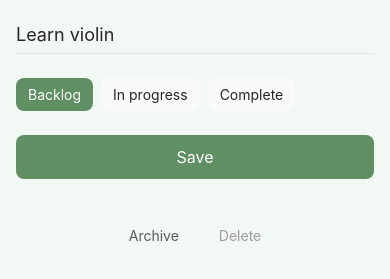
Test case: EditInterestScreen › shows inline feedback and does not navigate back when saving fails
Check: the field showing "Learn violin" is shown, box top-left (16, 16), bottom-right (374, 54)
Click the text "Save" at (195, 157), box top-left (176, 147), bottom-right (214, 167)
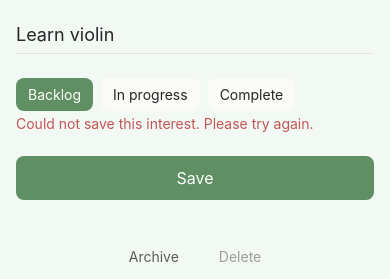
Check: the text "Could not save this interest. Please try again." is shown, box top-left (16, 115), bottom-right (314, 132)
